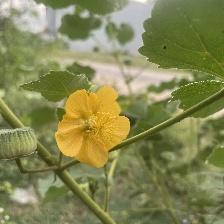indian mallow: (57, 85, 134, 169)
